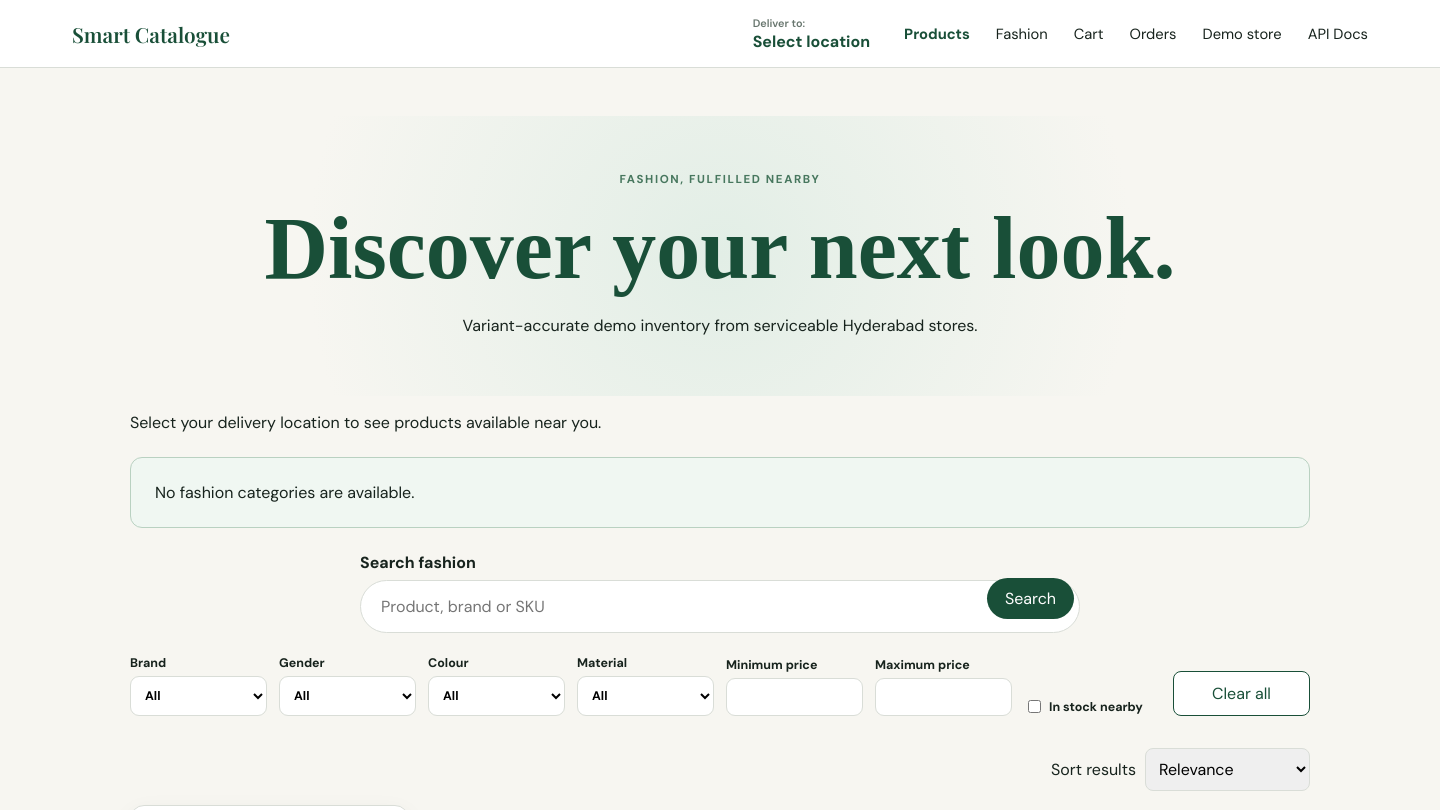
fashion discovery › loads global browsing first, then appends location-aware products without duplicates
The image size is (1440, 810).
Check: the text "Select your delivery location to see products available near you." is shown, box [130,412,601,433]
Click the button "Deliver to: Select location" at (811, 34), box [743,10,880,58]
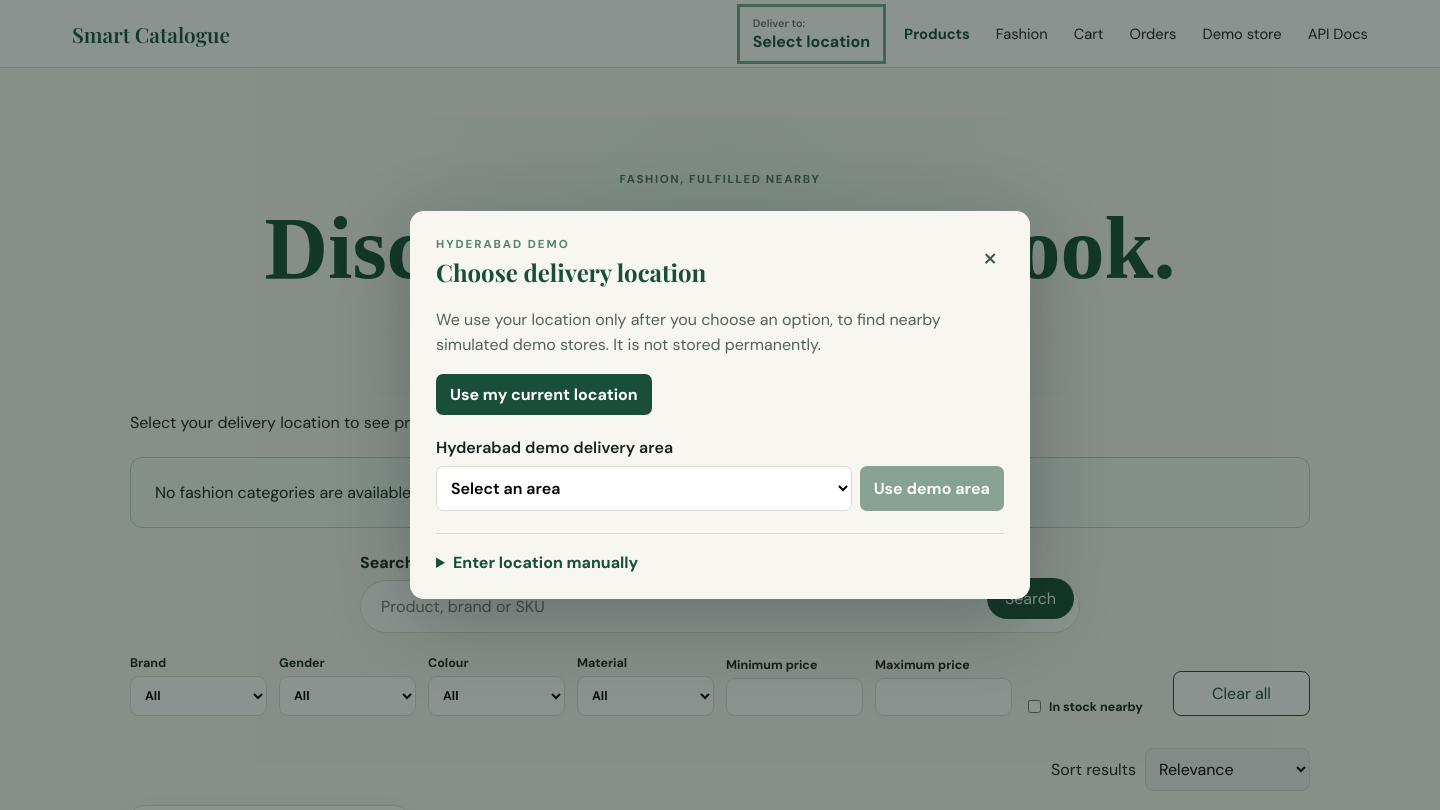
Select "Gachibowli" in the dropdown labelled "Hyderabad demo delivery area" at (644, 488), box [436,466,852,511]
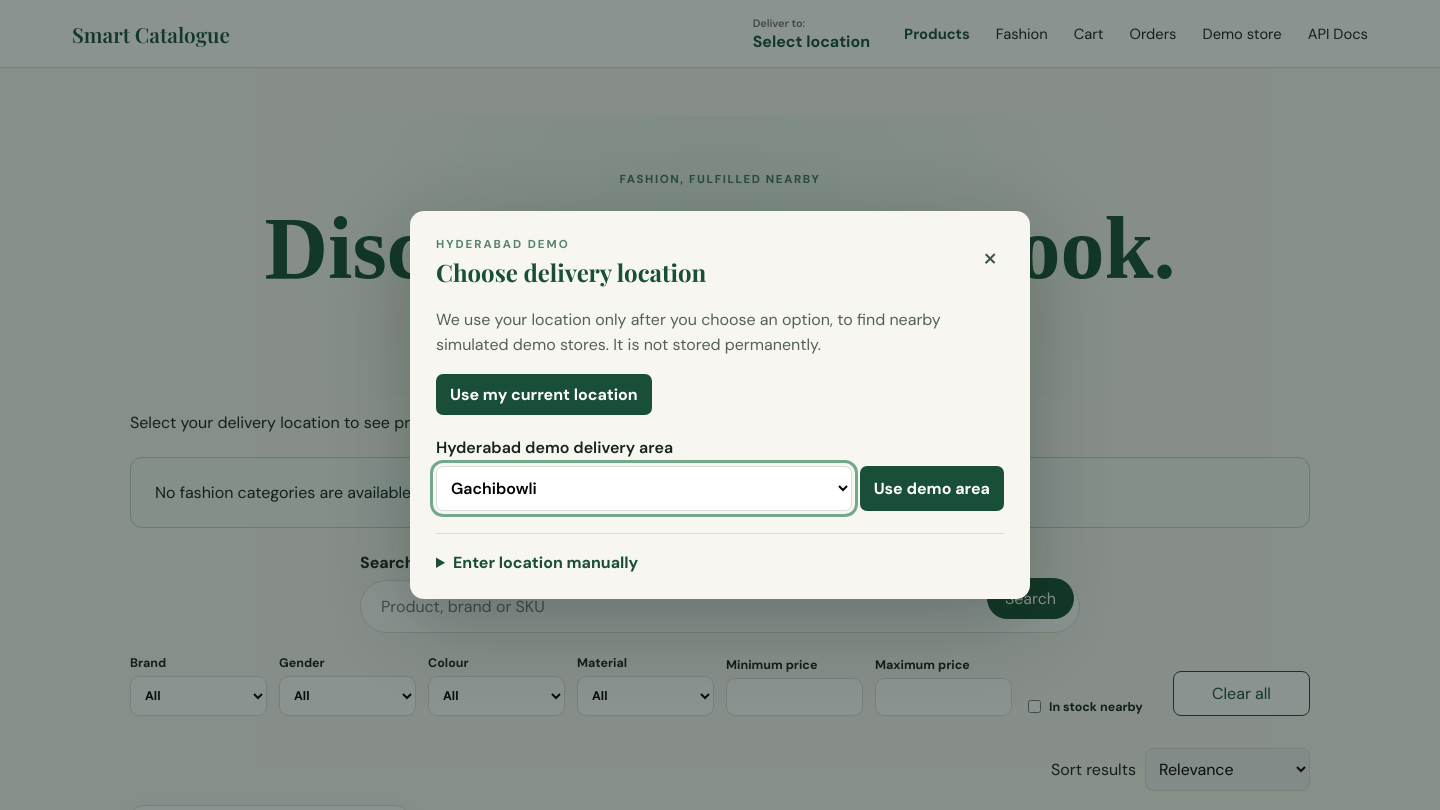
Click the button "Use demo area" at (932, 488), box [860,466,1004,511]
(page scrolled)
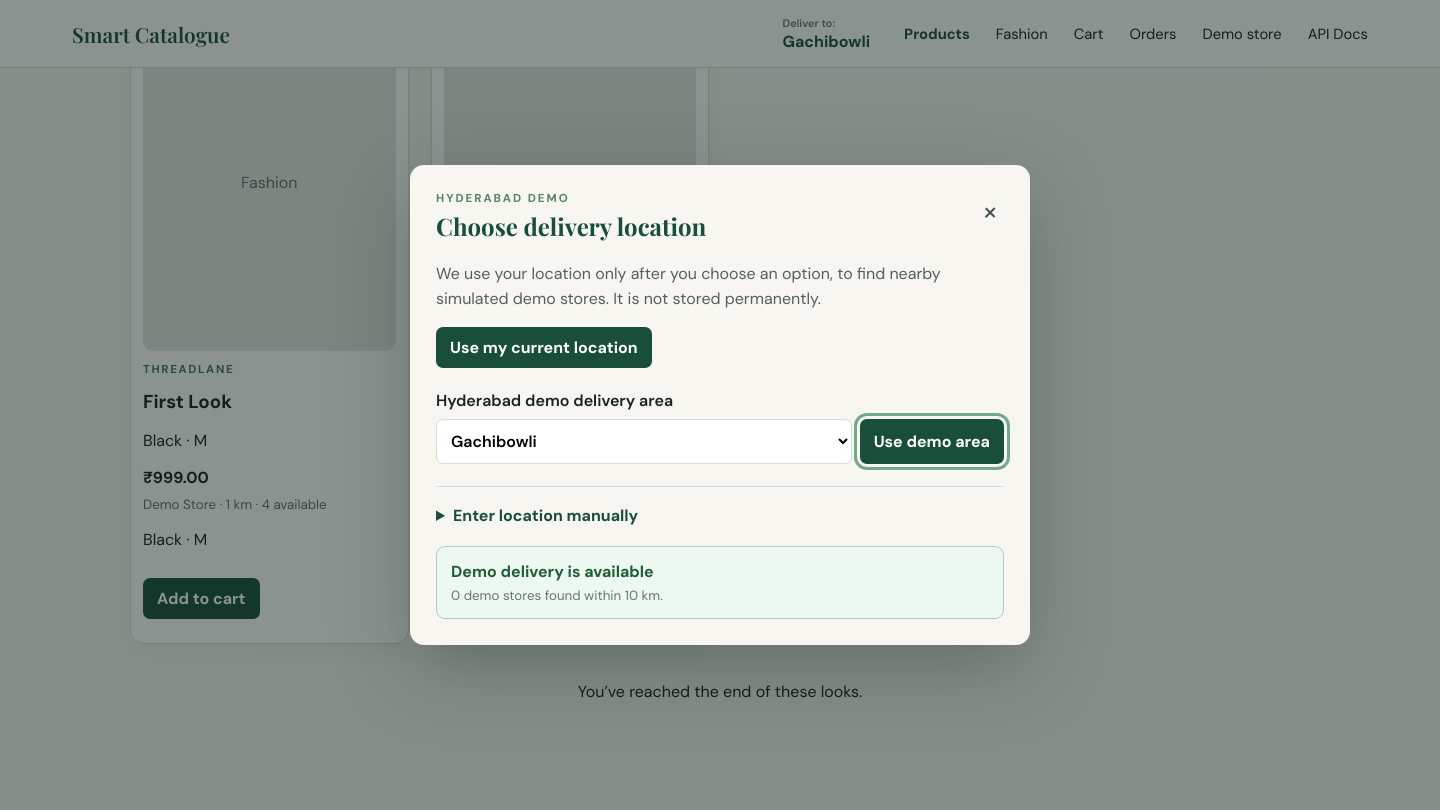
Check: the text "Demo delivery is available" is shown, box [451,561,654,582]
Check: the heading "Second Look" is shown, box [444,389,561,414]
Check: the number of headings "First Look" is 1, box [143,389,232,414]
